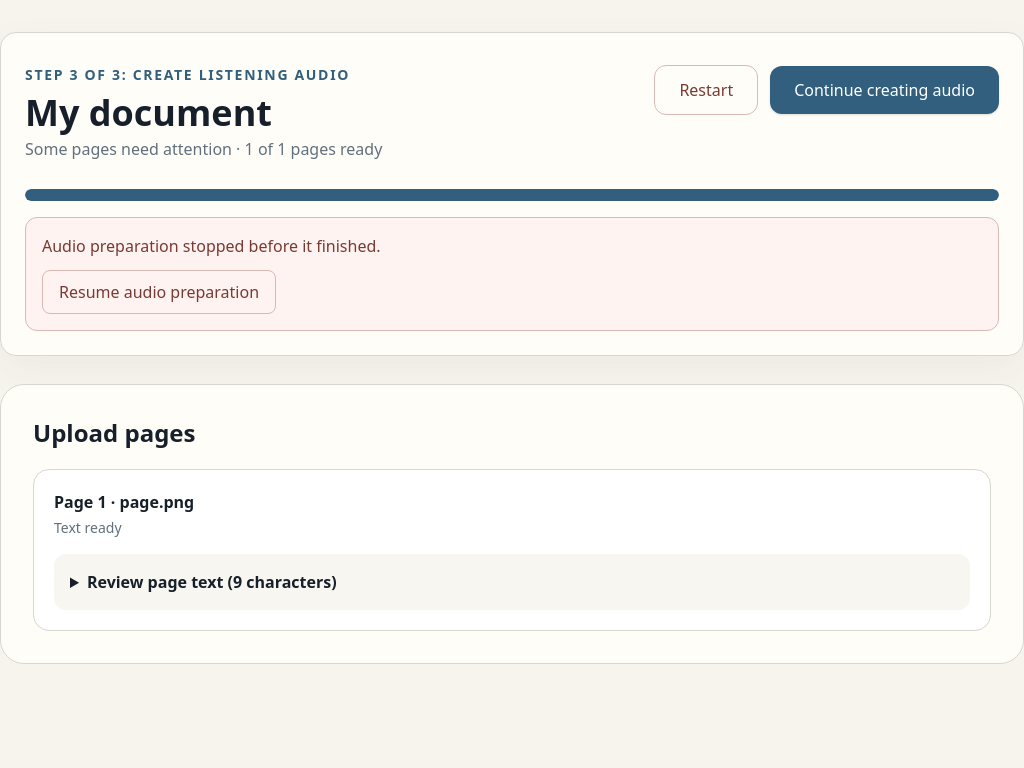
Scenario: document text preparation › offers to recover failed audio preparation after page text is ready
This screenshot has width=1024, height=768.
Click the button "Resume audio preparation" at [159, 292], box [42,270,276,314]
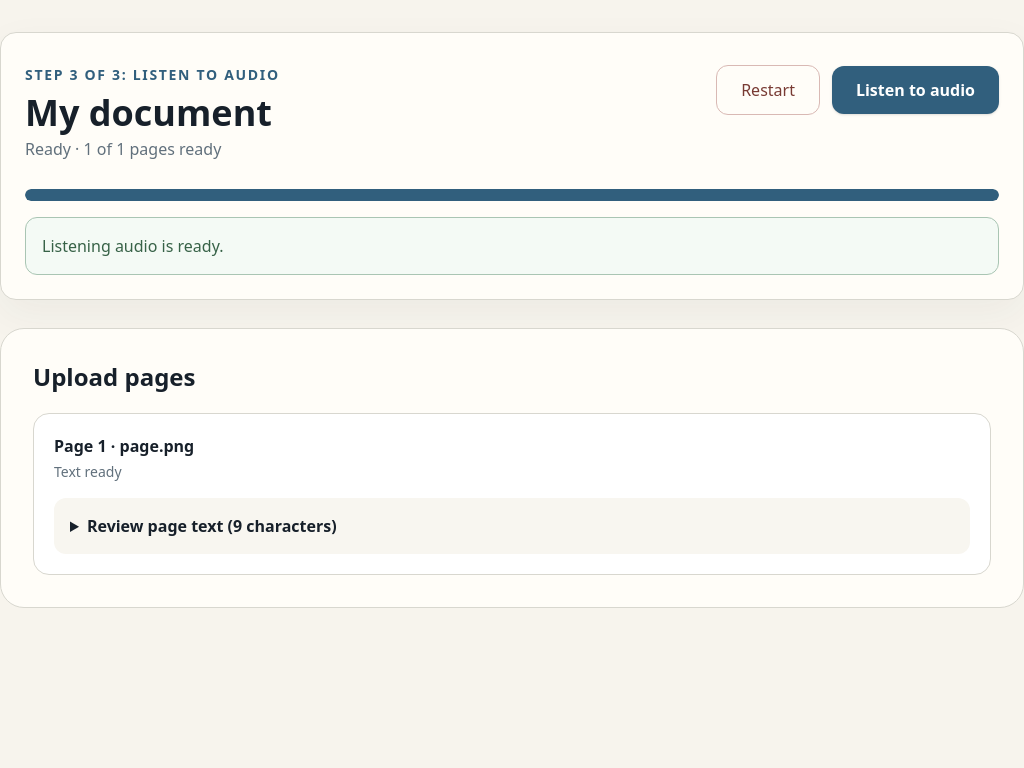
Expected: the text "Listening audio is ready." is shown, [42,235,224,257]
